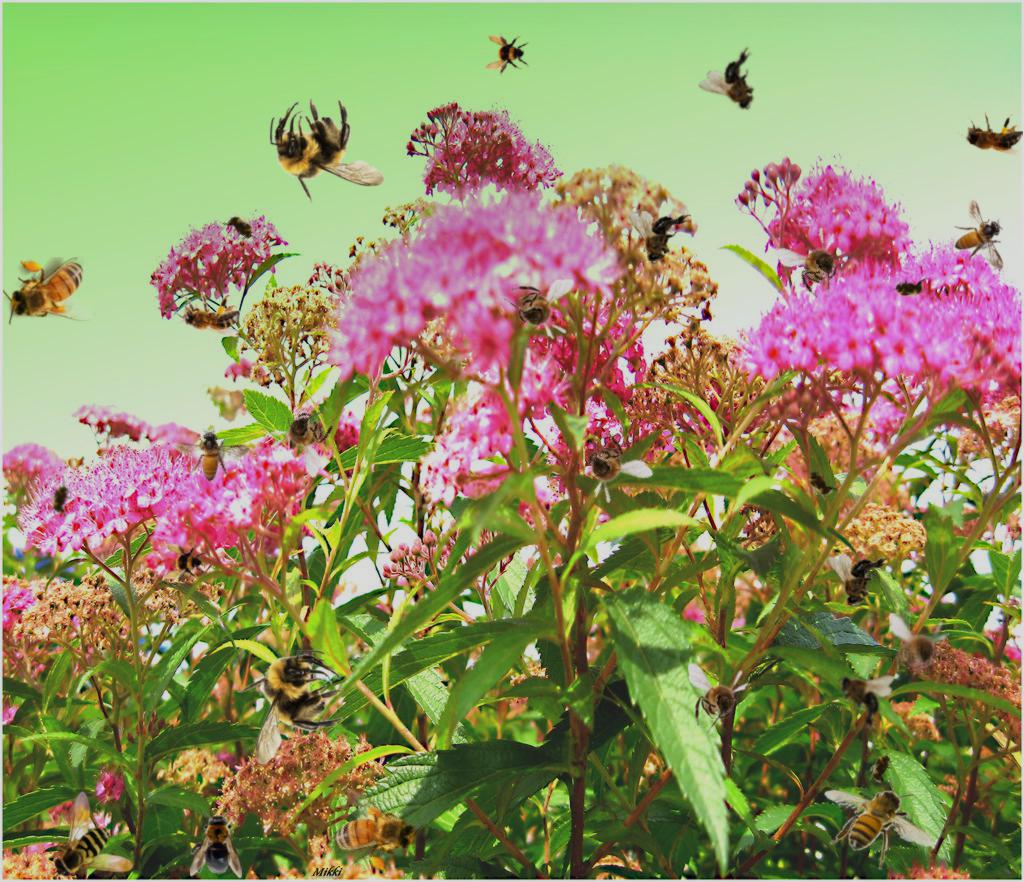Bee: (270, 98, 385, 205), (237, 650, 344, 765), (317, 782, 431, 882), (824, 776, 935, 870), (562, 420, 655, 514), (772, 216, 863, 310), (260, 388, 347, 480), (51, 791, 133, 879), (696, 44, 779, 124), (166, 416, 252, 493), (3, 257, 96, 325), (824, 657, 899, 735), (504, 279, 574, 340), (688, 663, 749, 733), (889, 613, 950, 683), (954, 199, 1004, 270), (190, 810, 242, 878), (629, 211, 691, 264), (828, 554, 890, 607), (174, 292, 240, 337), (957, 112, 1023, 157), (798, 460, 842, 506), (218, 206, 264, 250), (163, 542, 207, 586), (485, 33, 529, 77), (863, 745, 901, 791), (44, 476, 78, 522), (889, 277, 929, 299)
